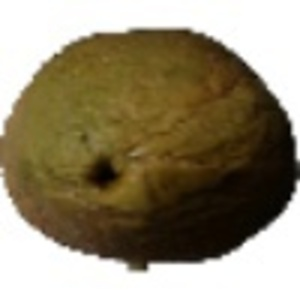mamão: (4, 25, 295, 261)
